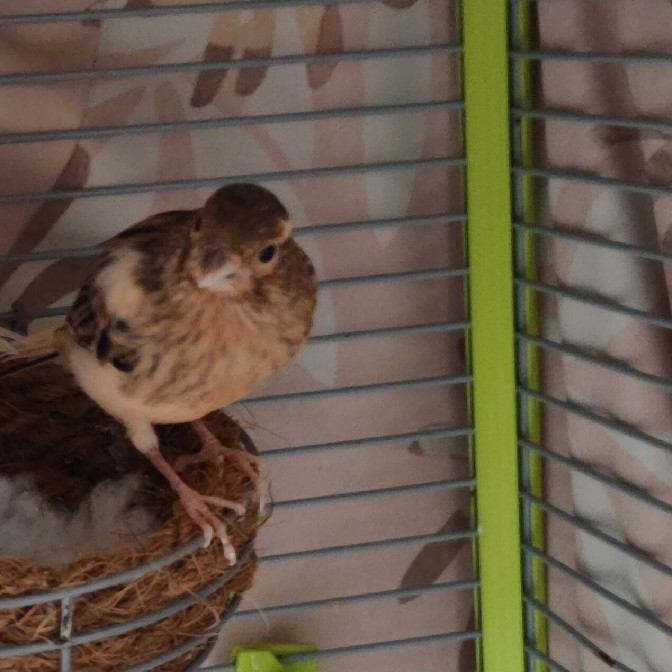Not_a_Chicken: (53, 173, 326, 536)
